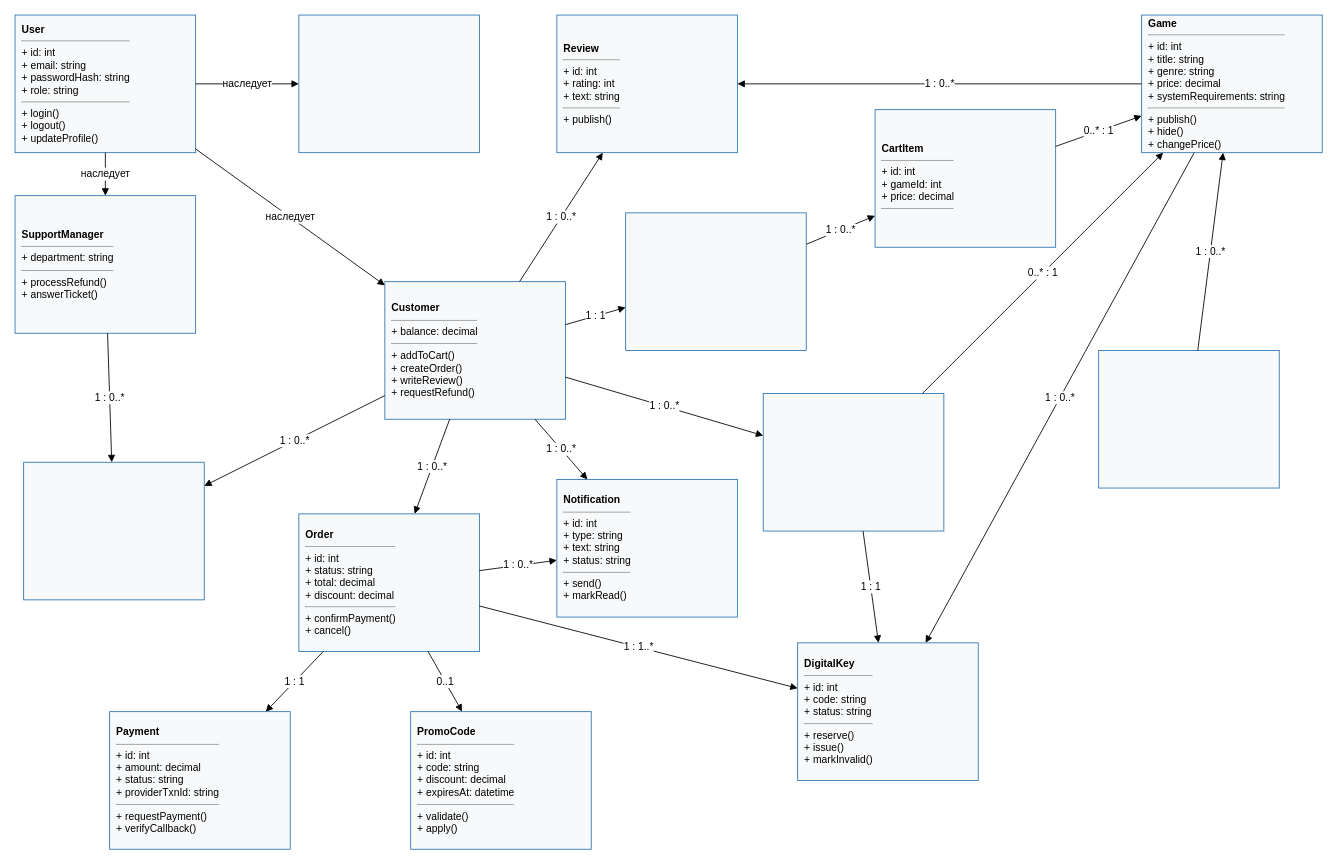
Some shapes in this 1337 by 864 pixel diagram are drawn without their labels. Each missing label, with the box of its shape:
Admin + accessLevel: string + manageGames() + uploadKeys() + managePromoCodes(): (298, 14, 479, 153)
Cart + id: int + customerId: int + calculateTotal() + applyPromoCode(): (625, 212, 806, 350)
LibraryItem + id: int + addedAt: datetime + showKey(): (762, 393, 944, 531)
Platform + id: int + name: string + description: string: (1098, 350, 1279, 488)
RefundRequest + id: int + reason: string + status: string + approve() + reject(): (23, 461, 204, 600)
